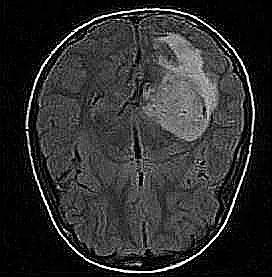Tumor: (142, 53, 213, 143)
